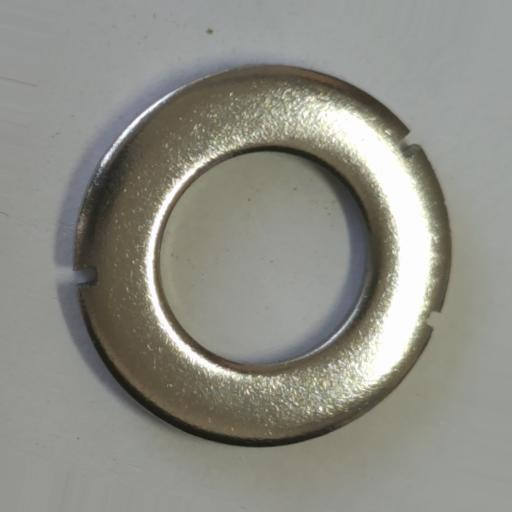burr: (395, 130, 422, 160), (75, 266, 99, 288), (424, 310, 442, 329)
